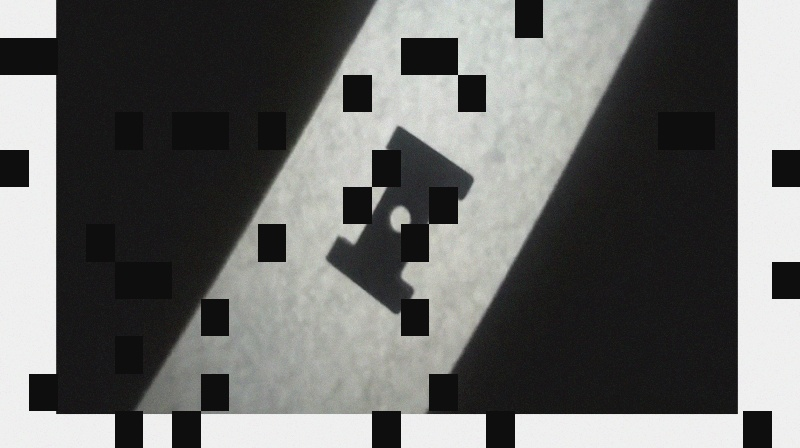O002: (322, 122, 478, 316)
